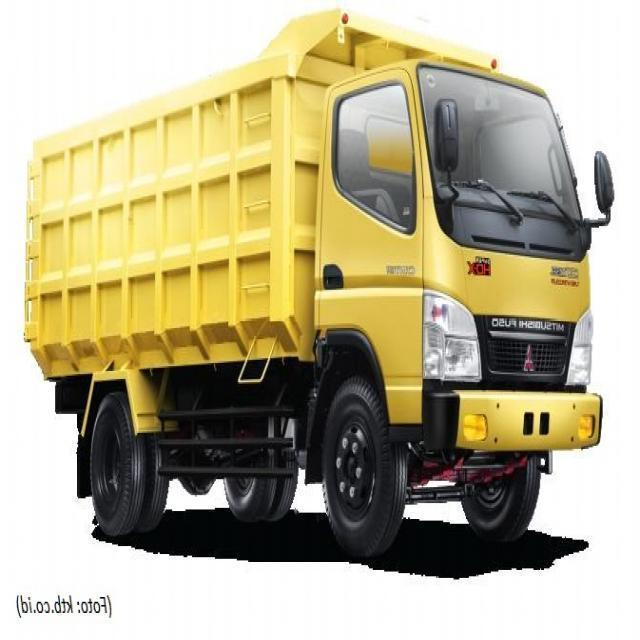truck: (22, 11, 612, 546)
